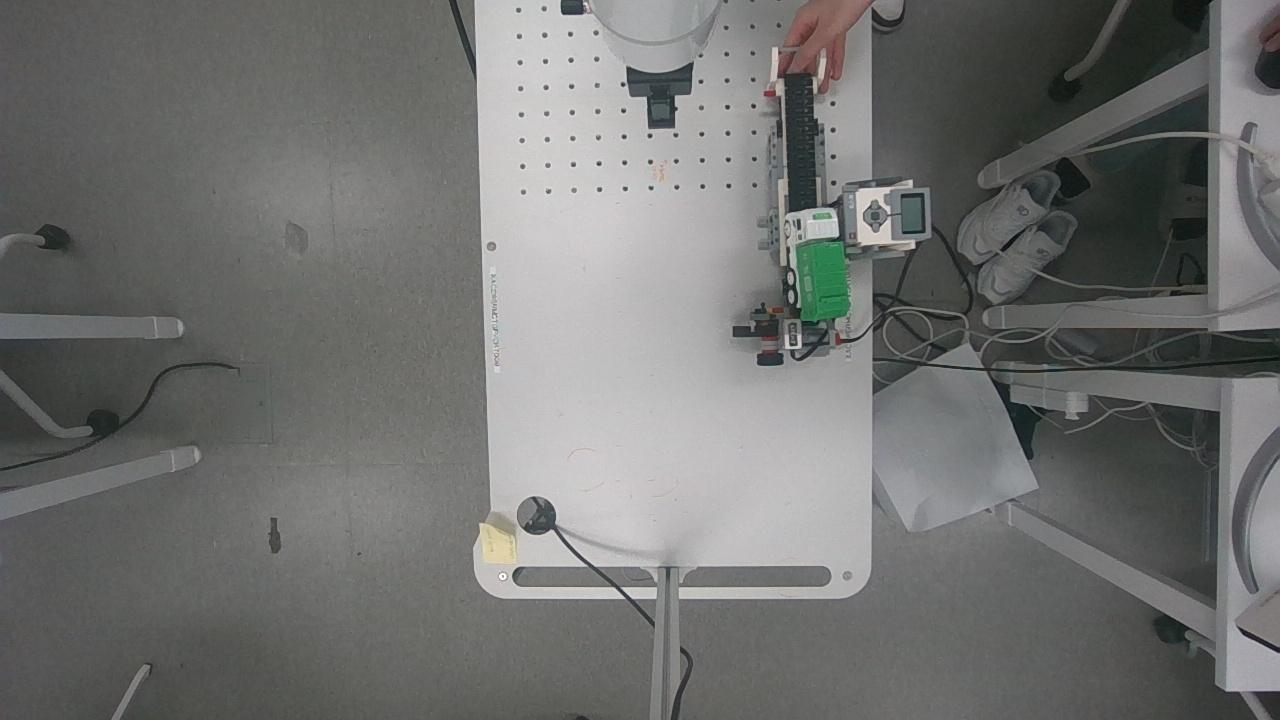truck: (766, 197, 852, 324)
